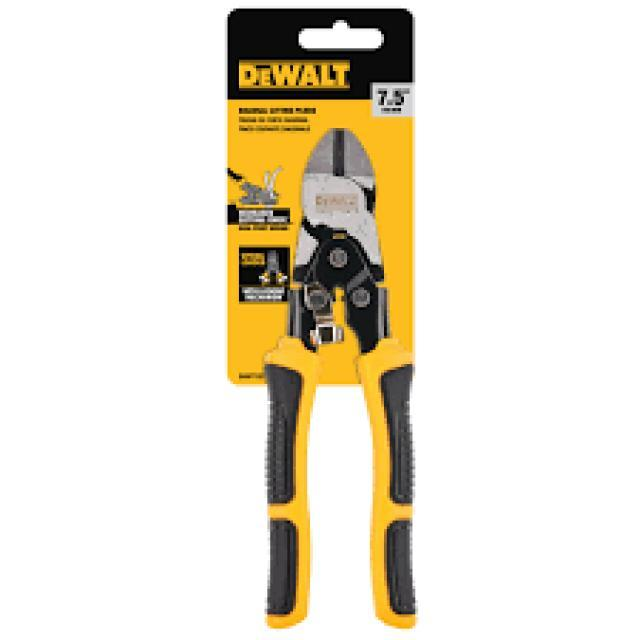pliers: (241, 120, 427, 630)
